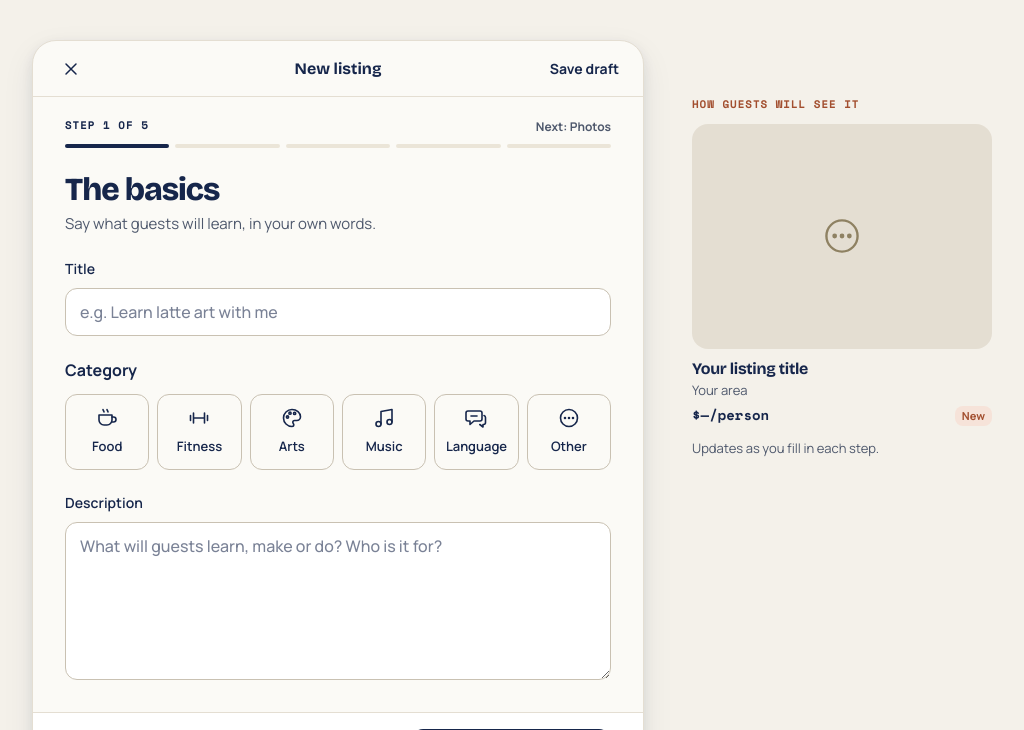
Test: CreateListing validation › asks for a category before moving on
Type "Learn latte art with me" into the field labelled "Title".
click(338, 312); type("Learn latte art with me")  # box top-left (65, 288), bottom-right (611, 336)
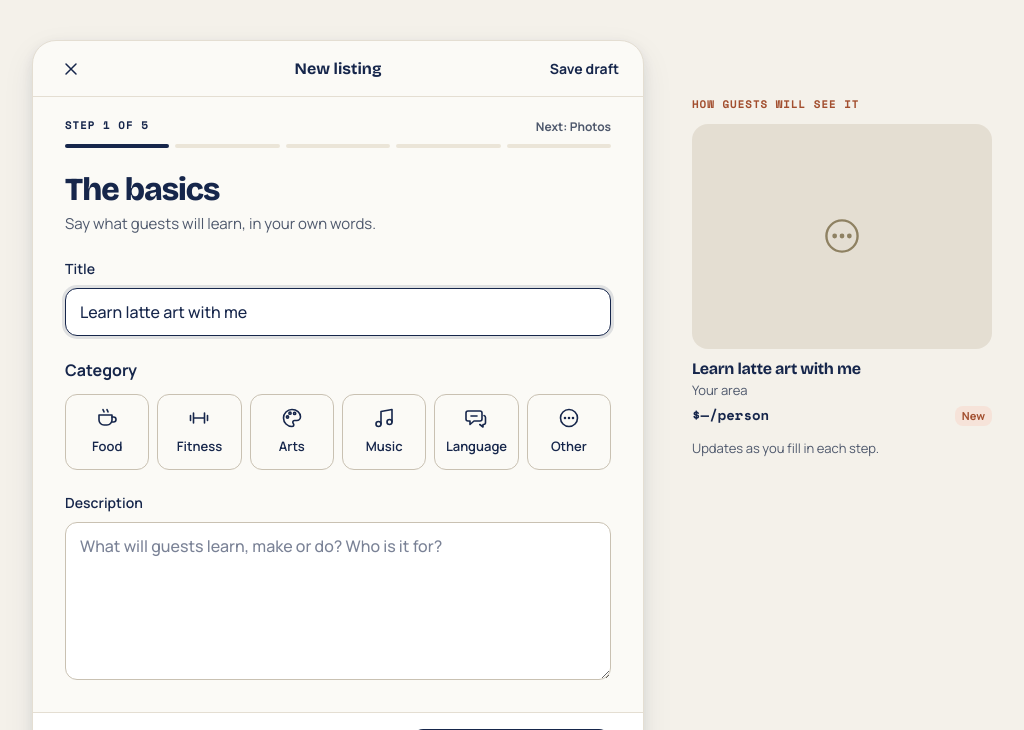
Type "Pull your first rosetta." into the text box labelled "Description".
click(338, 601); type("Pull your first rosetta.")  # box top-left (65, 522), bottom-right (611, 680)
(page scrolled)
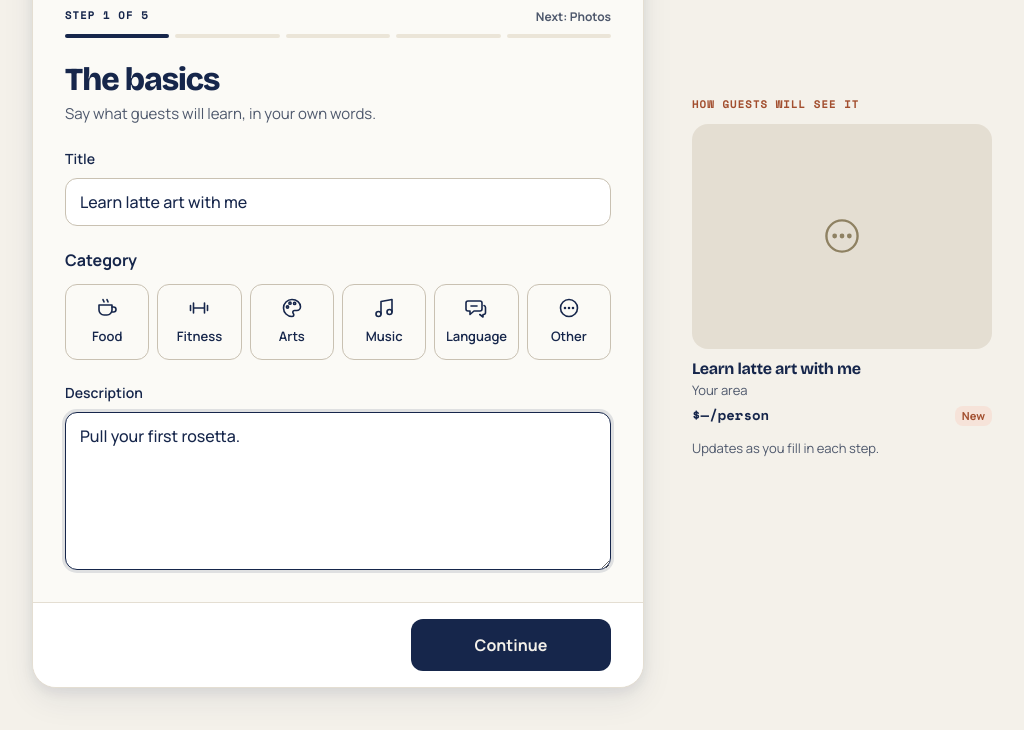
Click the button "Continue".
click(511, 645)  # box top-left (411, 619), bottom-right (611, 671)
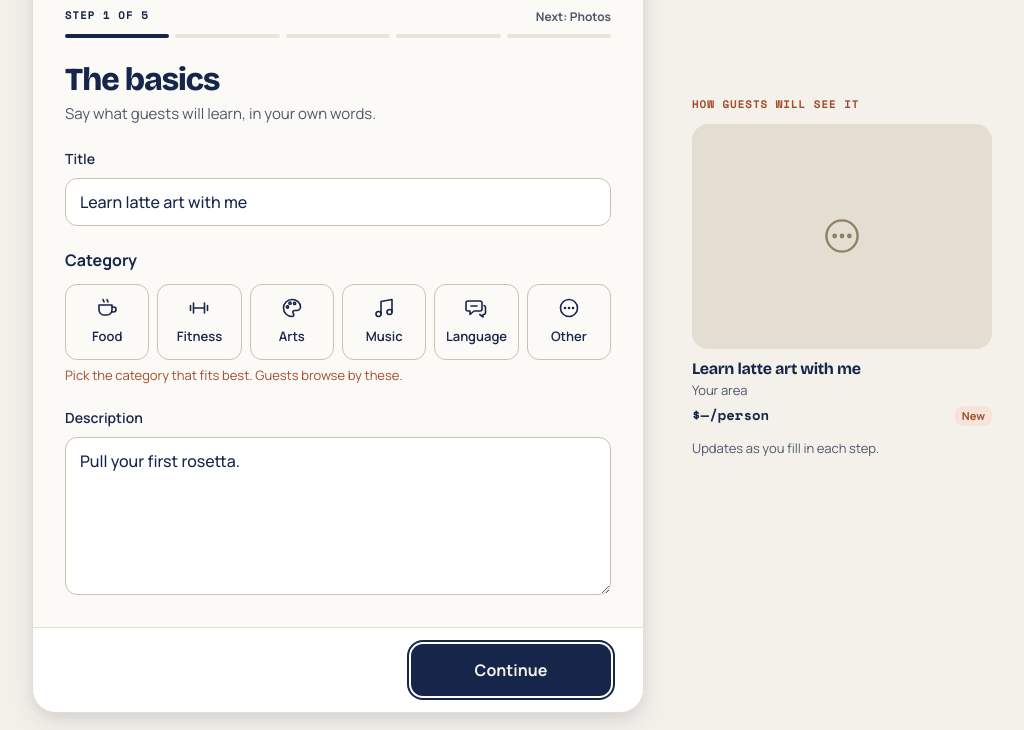
Expected: the text "Pick the category that fits best. Guests browse by these." is shown, top-left (65, 366), bottom-right (402, 384)
